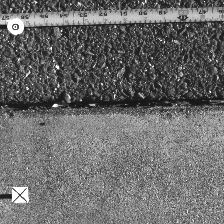circle: (6, 18, 24, 34)
crack: (1, 95, 224, 111)
square: (11, 186, 28, 203)
